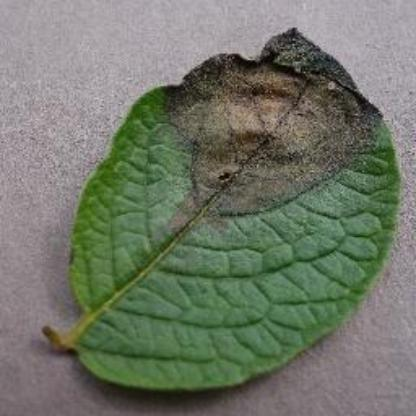Late-Blight: (34, 24, 400, 404)
